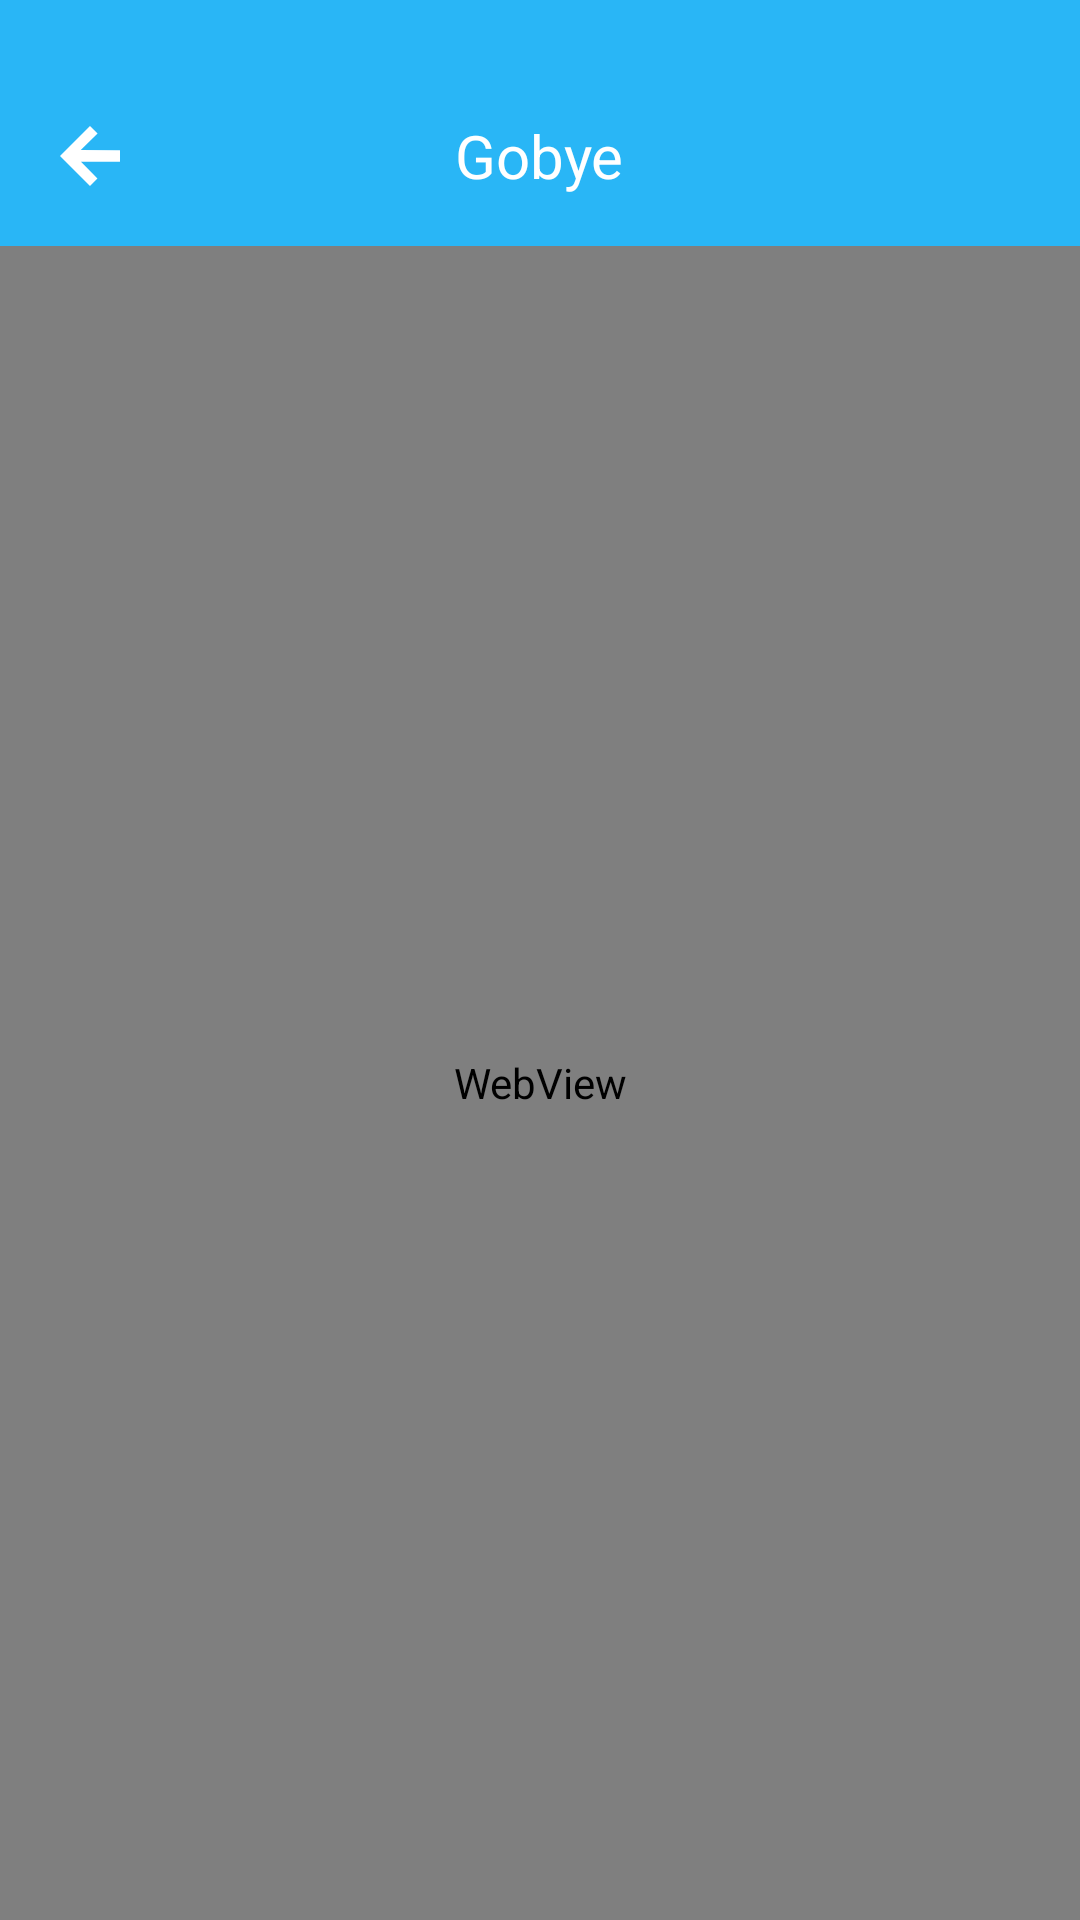

Icon bounding boxes for this 1080×1920 phone screenshot, format (x1, y1, x2, y2):
back: (60, 126, 120, 186)
